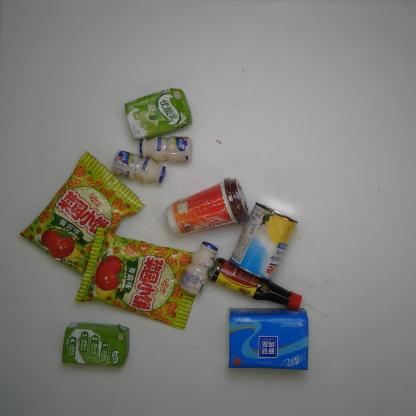Canned Food: (229, 202, 299, 282)
Instant Drink: (164, 177, 250, 236)
Milk: (124, 87, 193, 142), (62, 322, 130, 366), (179, 242, 219, 297), (110, 150, 167, 185), (136, 135, 193, 163)
Puffed Food: (18, 151, 145, 275), (76, 226, 199, 330)
Seasoner: (210, 258, 302, 310)
Tissue: (223, 307, 310, 372)
